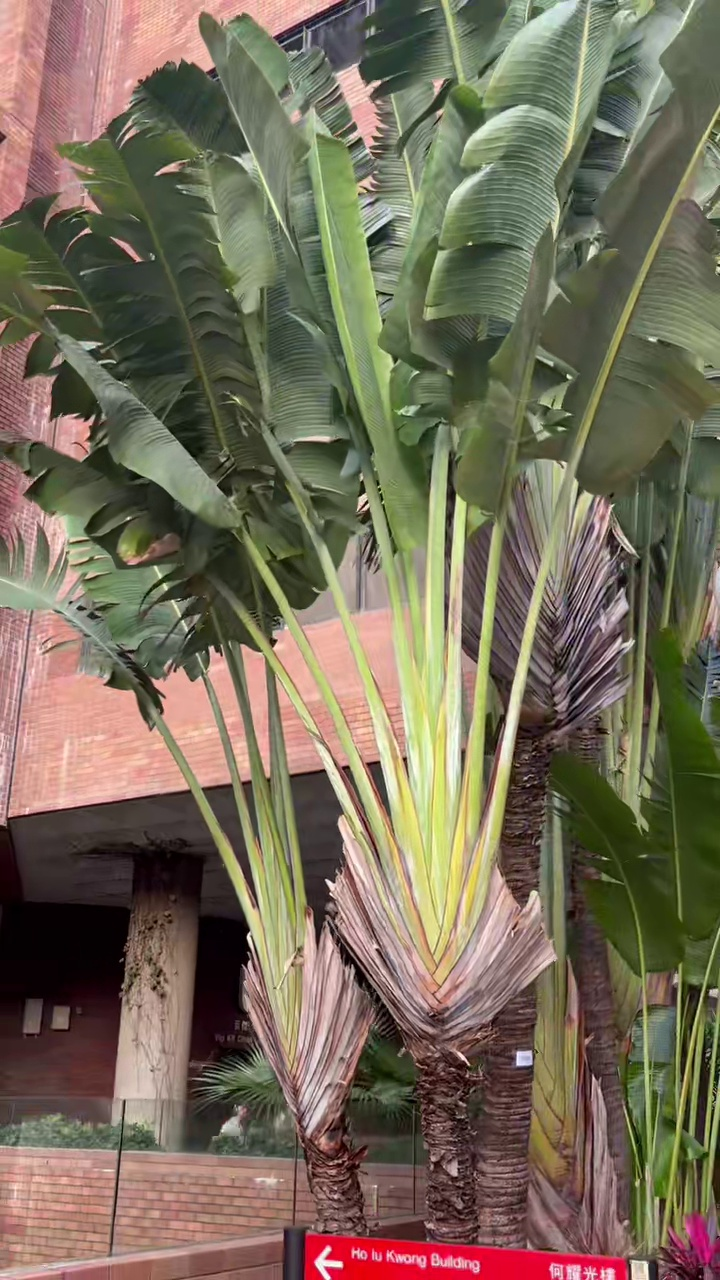Travellers-tree: (0, 14, 549, 1242)
